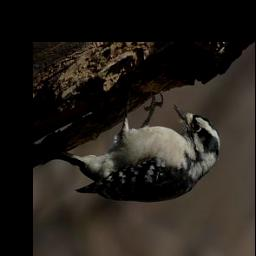Woodpecker: (51, 92, 220, 202)
